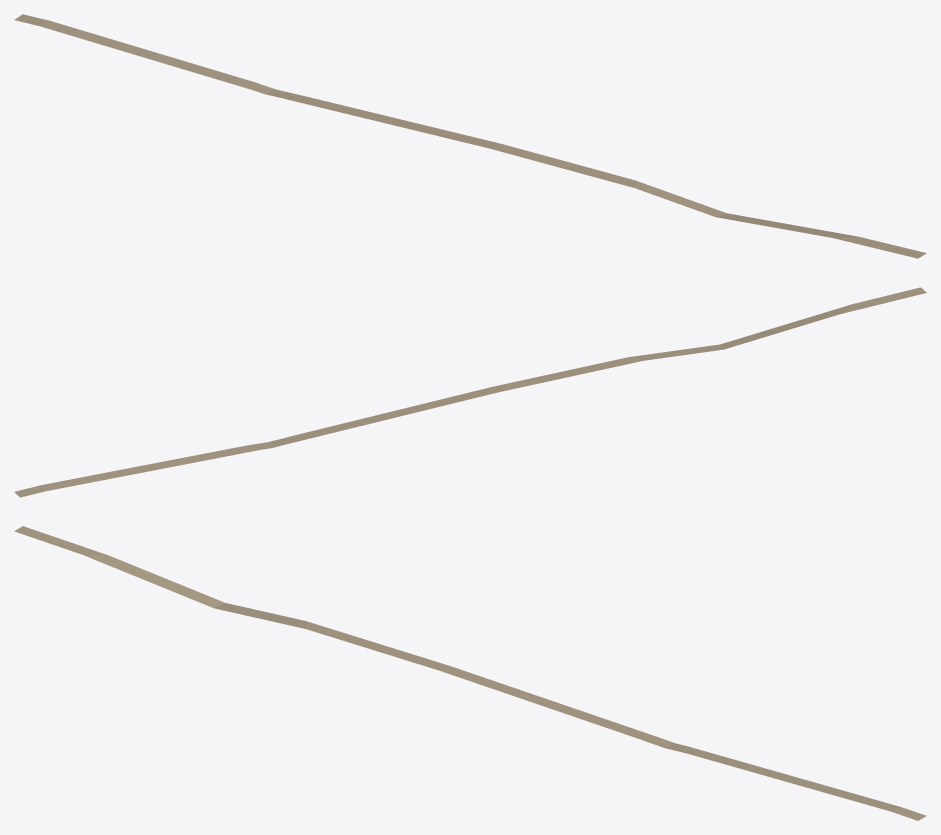
The model's file is farm_-2_-2_track.glb.
The picture shows the model from 3 angles, top to bottom: view 1: azimuth 90°, elevation 25°; view 2: azimuth 150°, elevation 25°; view 3: azimuth 270°, elevation 25°; orthographic projection. The views are drawn at different scales.
Visible parts, largest first — view 1: geometry_0; view 2: geometry_0; view 3: geometry_0.
Part boxes in pixels (<box>): geometry_0: <box>14,14,926,258</box>; geometry_0: <box>14,287,926,497</box>; geometry_0: <box>14,526,926,820</box>.
Size of the model in its own units: 134 by 6.16 by 192.
